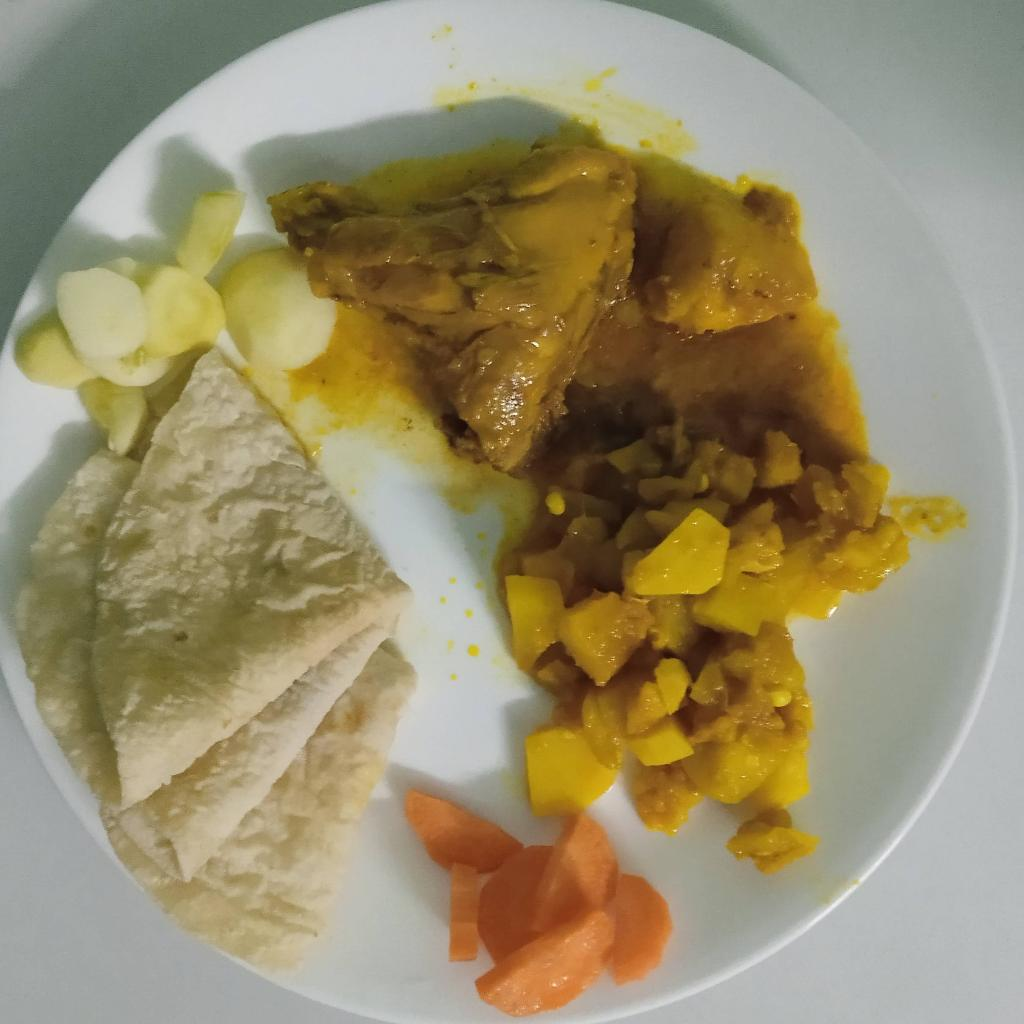carrot: (402, 785, 671, 1005)
chicken: (268, 128, 815, 488)
cucumber: (20, 186, 337, 460)
ruti: (13, 341, 422, 979)
vaji: (507, 441, 895, 869)
